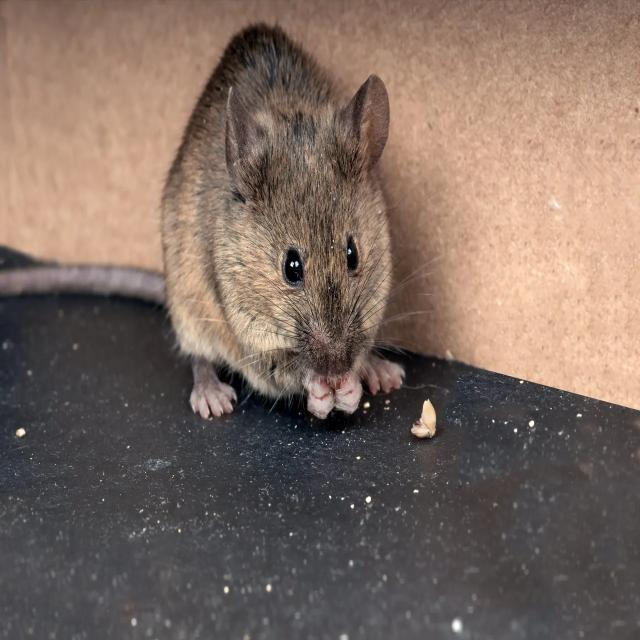rat: (0, 17, 413, 426)
